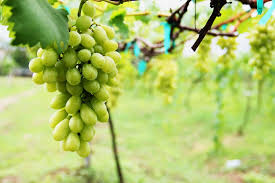grapes: (30, 19, 132, 158)
